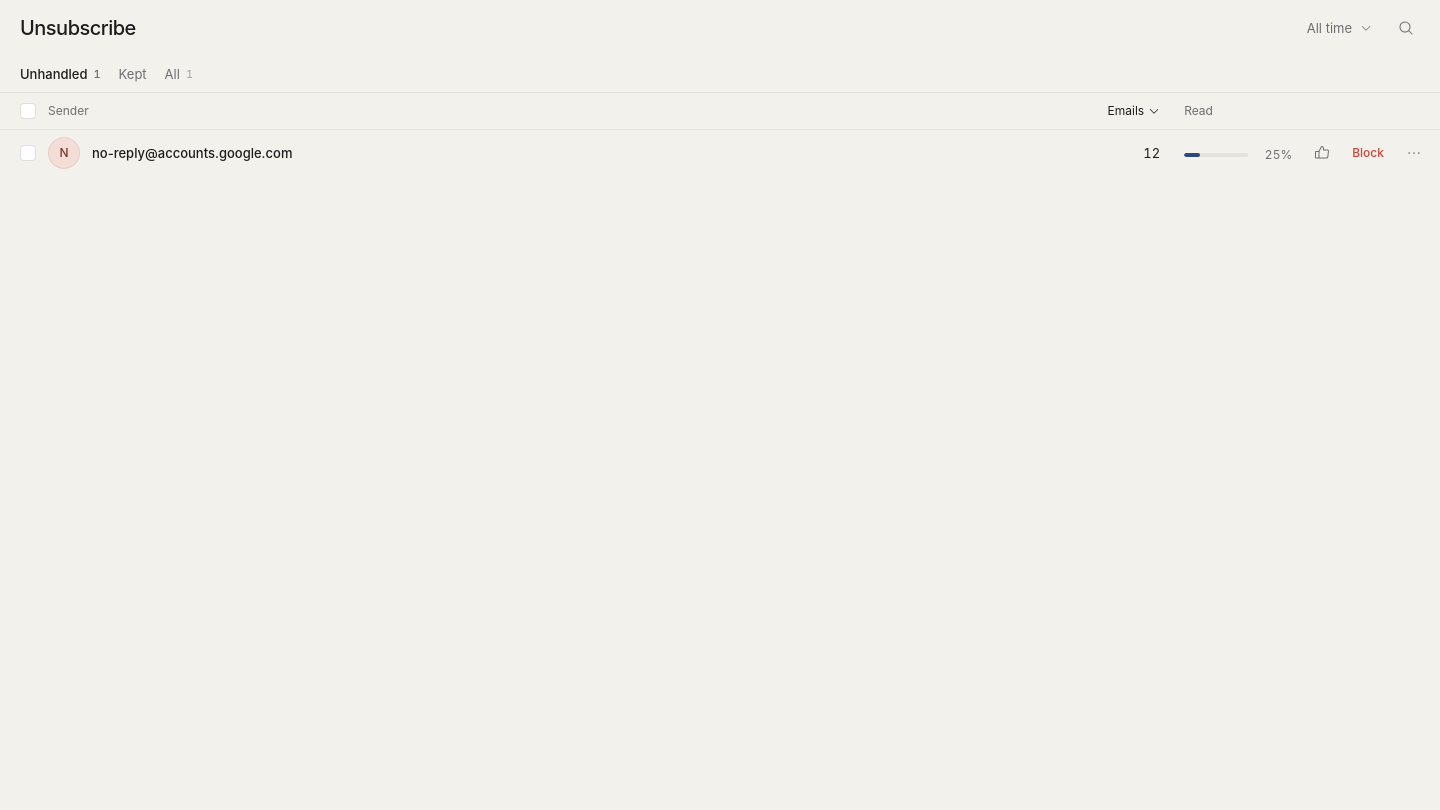
Test case: BulkUnsubscribePage › puts the policy warning in the Block tooltip and dialog, and respects Cancel
This screenshot has width=1440, height=810.
Focus the button "Block" at (1368, 153), box [1340, 137, 1396, 169]
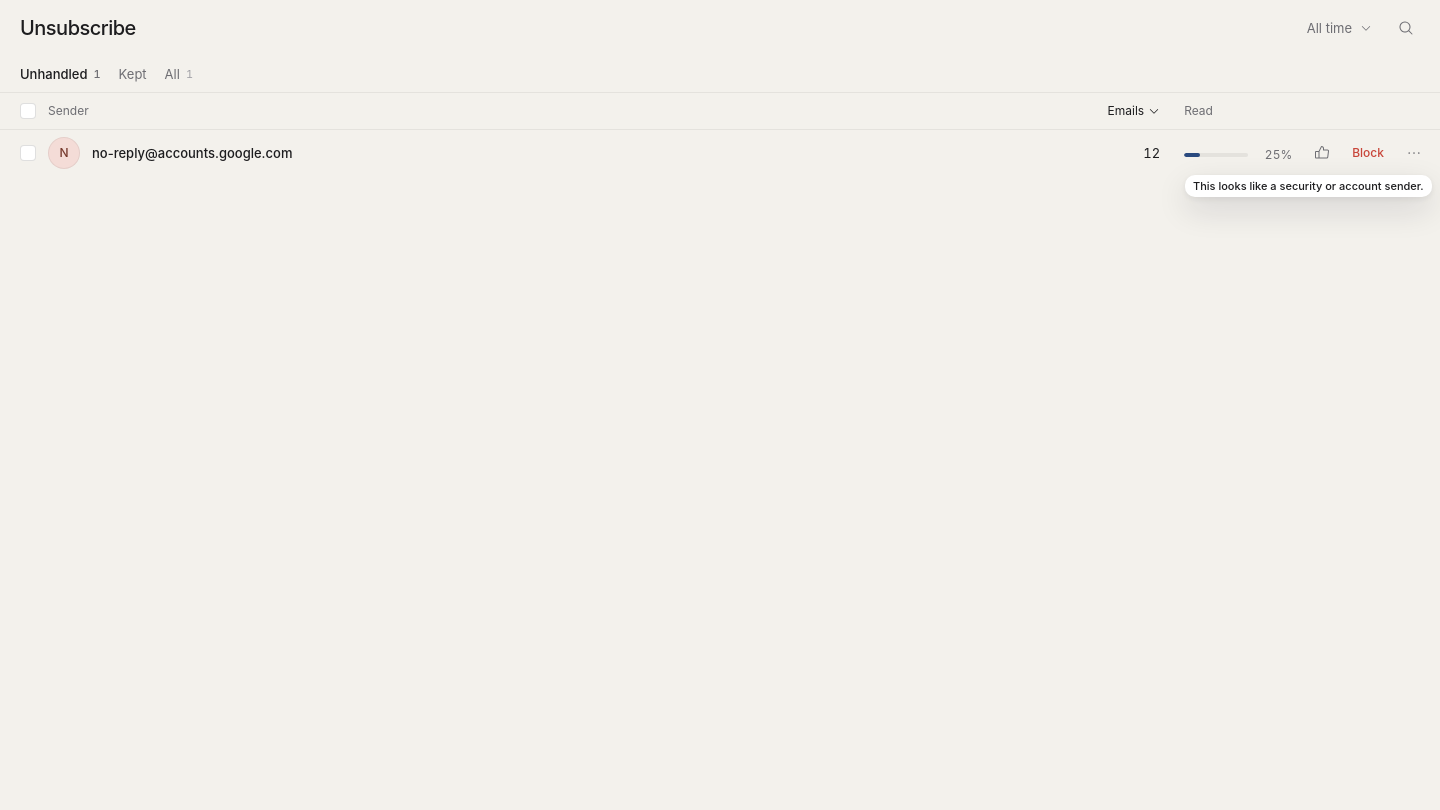
Now the tooltip shows "security or account sender", box [1193, 179, 1424, 193]
Click the button "Block".
click(1368, 153)  # box [1340, 137, 1396, 169]
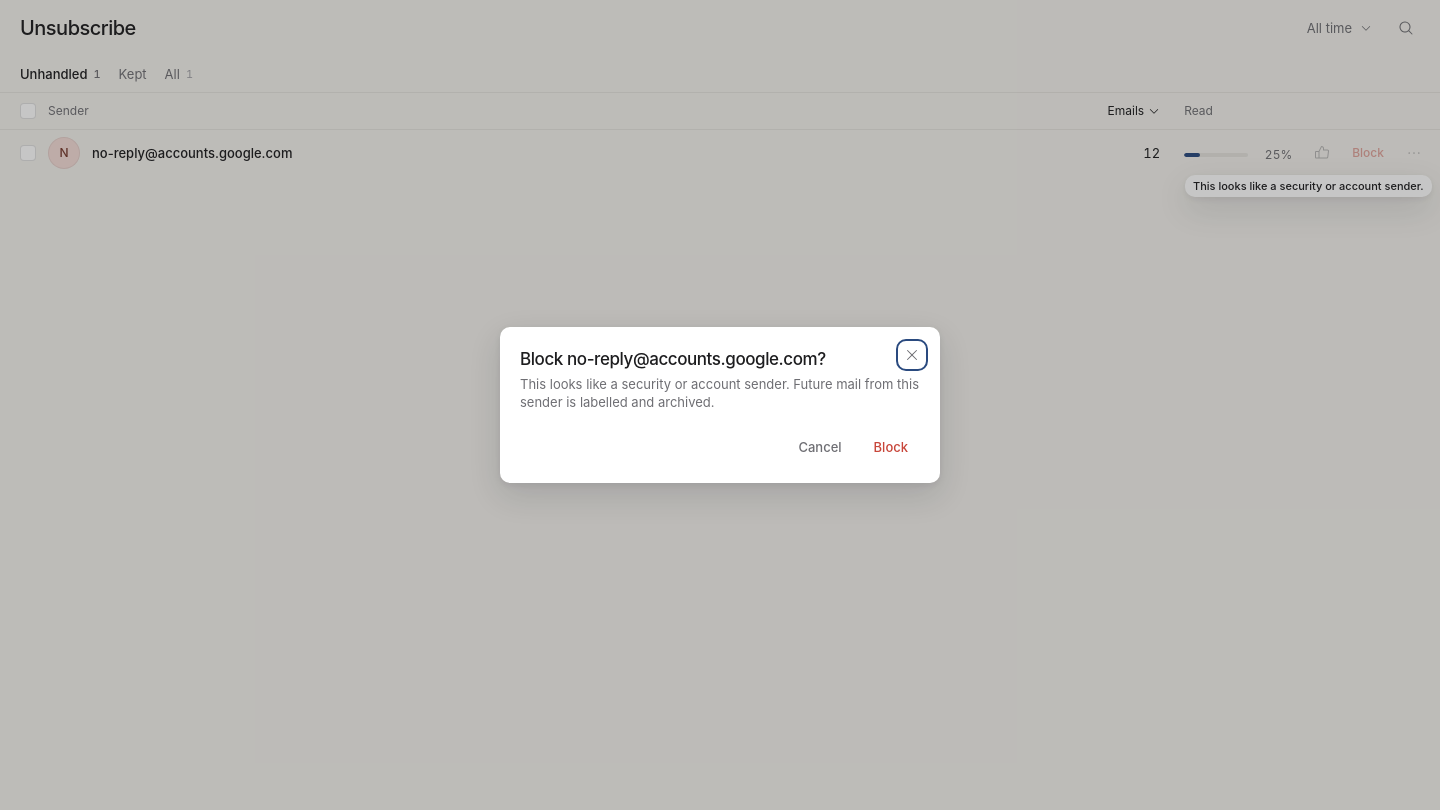
Now the dialog shows "Block no-reply@accounts.google.com?", box [520, 349, 826, 369]
Now the dialog shows "security or account sender", box [520, 376, 919, 410]
Click the button "Cancel".
click(820, 447)  # box [786, 431, 854, 463]
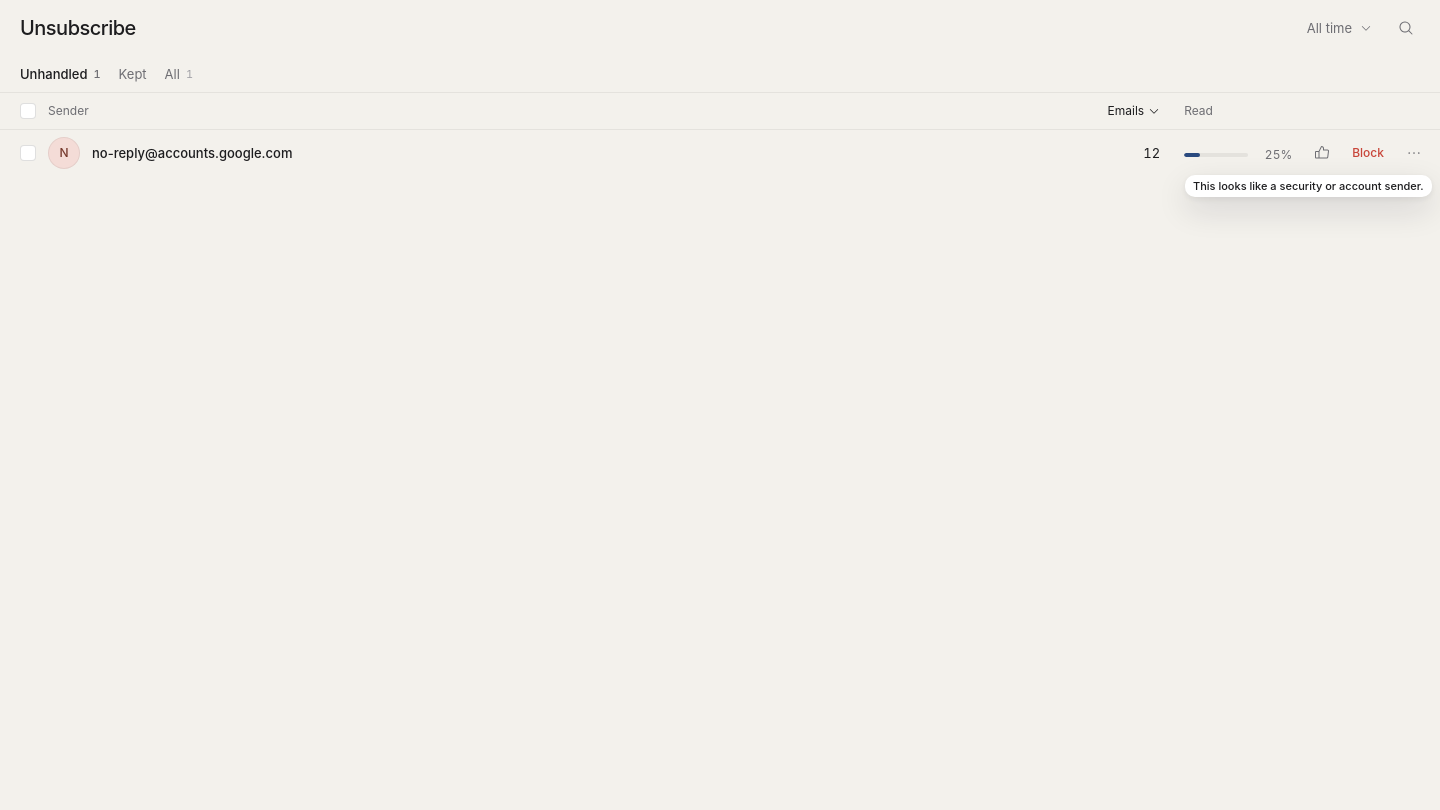
Now the dialog is gone
Click the button "Block".
click(1368, 153)  # box [1340, 137, 1396, 169]
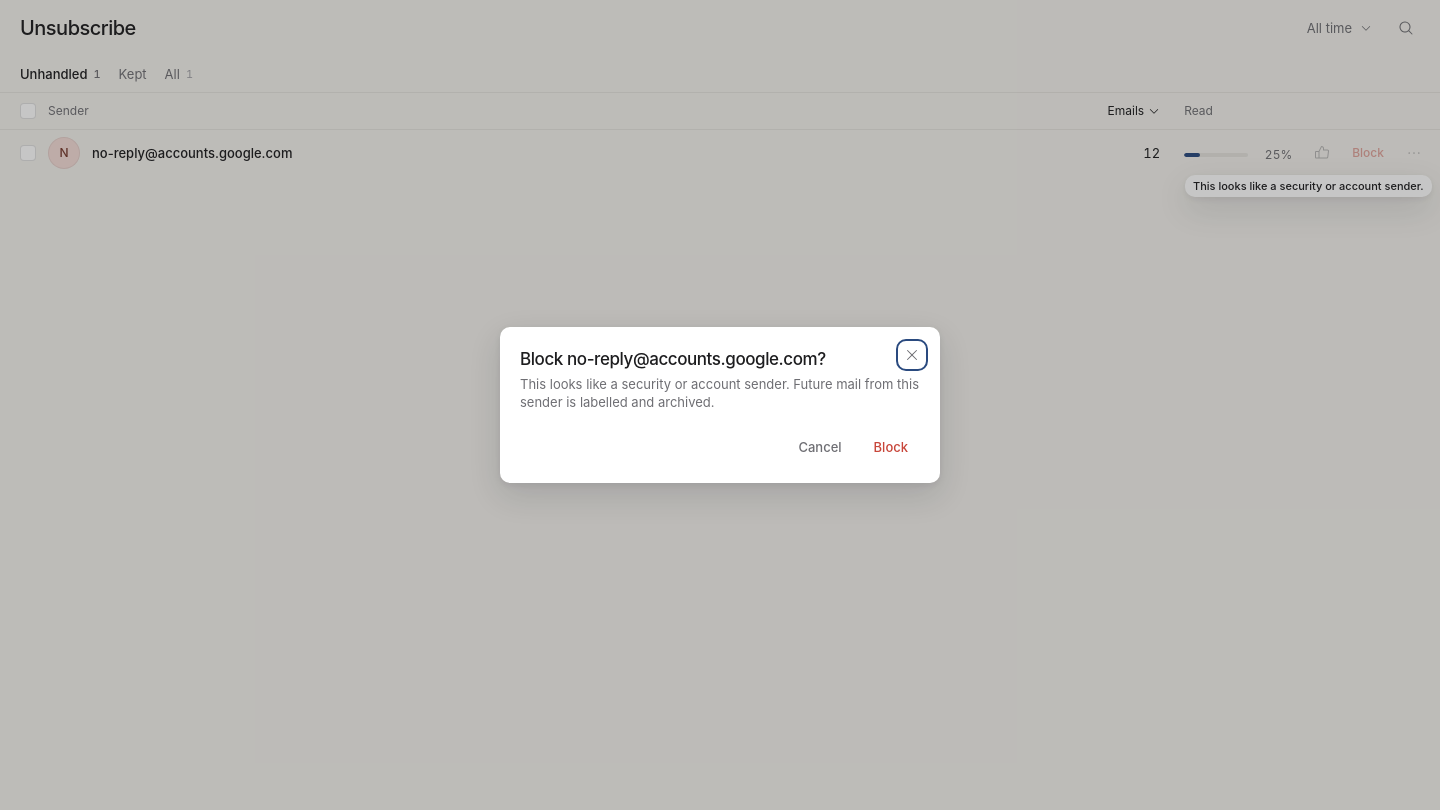
Click the button "Block".
click(891, 447)  # box [862, 431, 920, 463]
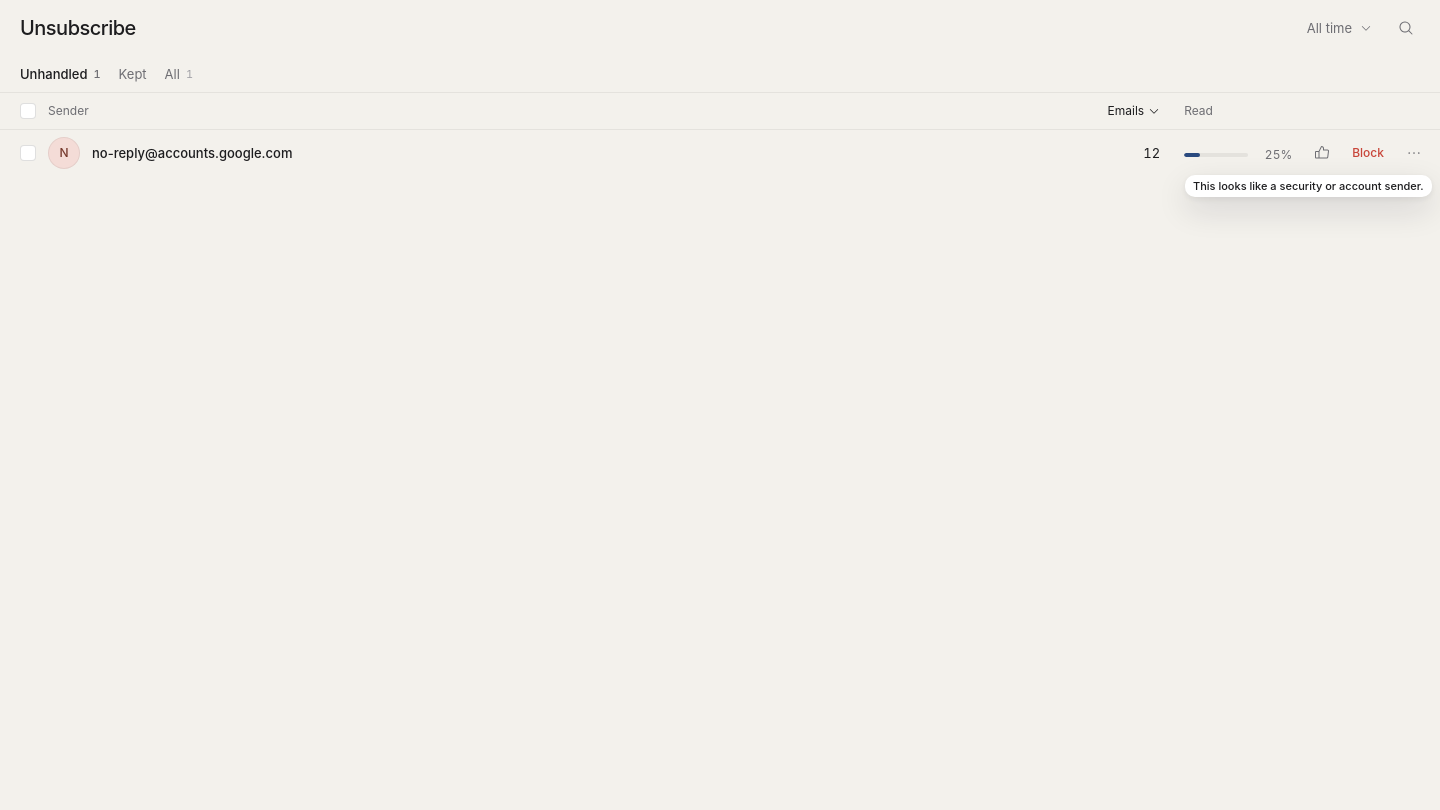
Now the dialog is gone
